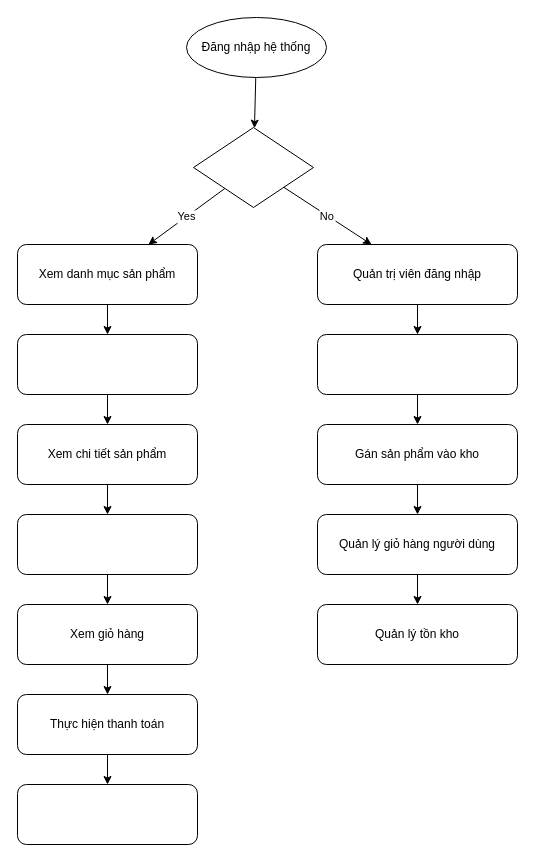
The diagram is 535 pixels wide and 862 high, and some of its shapes have lost their labels. The shapes that lost their labels are listed below. From the top down, each one's box as (x1, y1, x2, y2) in pixels, then its label:
(192, 126, 314, 208): Là người mua?
(16, 334, 198, 394): Lọc/sắp xếp theo tên, giá
(316, 334, 518, 394): Quản lý sản phẩm
(16, 514, 198, 574): Đặt hàng (Mua hàng)
(16, 784, 198, 844): Nhận email xác nhận
